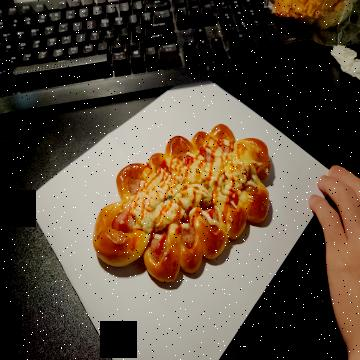pizza_bread: (94, 126, 272, 282)
